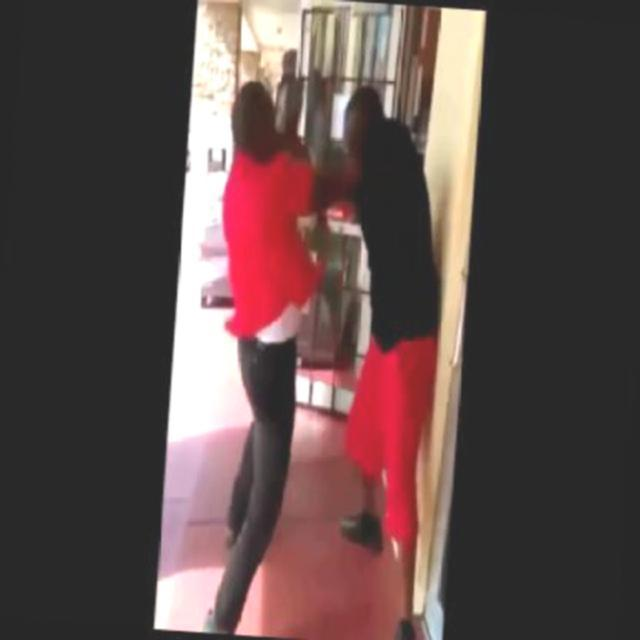fight: (198, 72, 458, 623)
